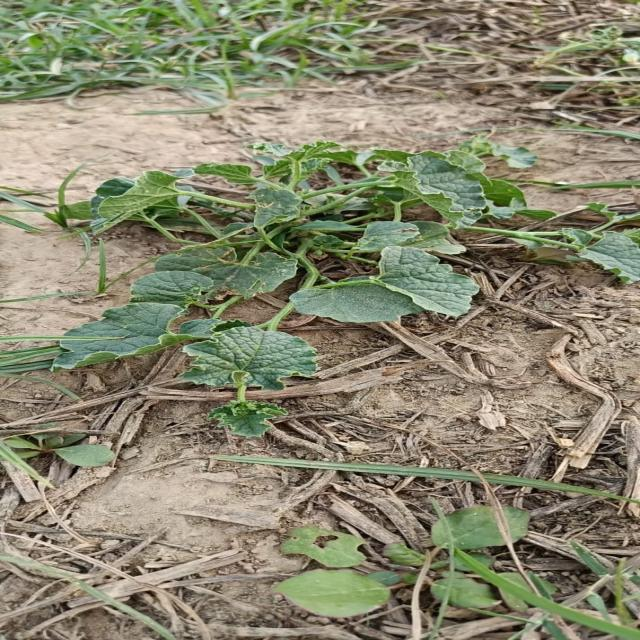plant: (3, 141, 640, 391)
